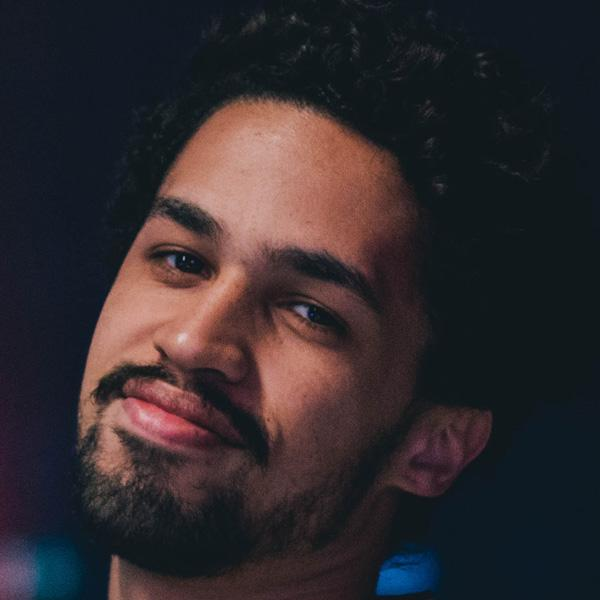Eyes: (268, 283, 358, 342), (137, 234, 219, 289)
